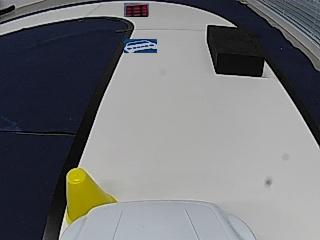block: (206, 25, 263, 76)
cone: (66, 168, 117, 205)
